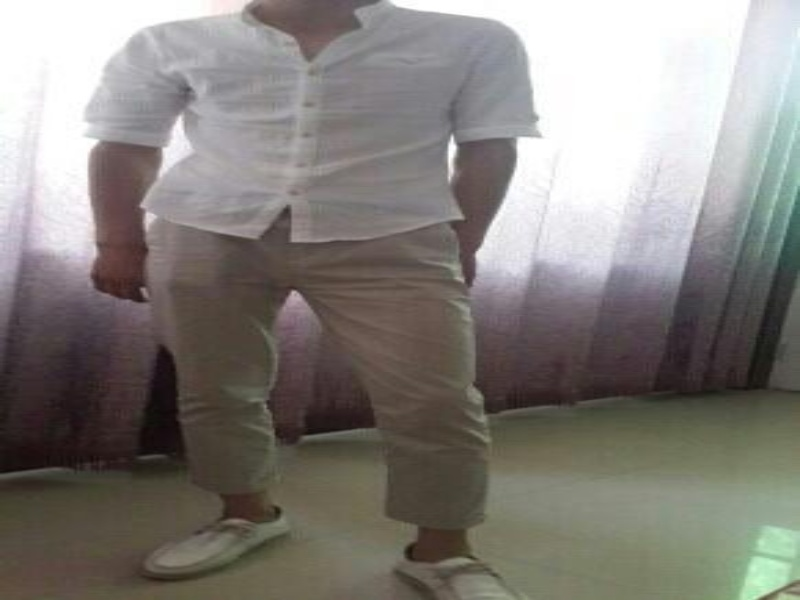short_sleeved_shirt: (74, 0, 547, 248)
trousers: (124, 193, 487, 536)
